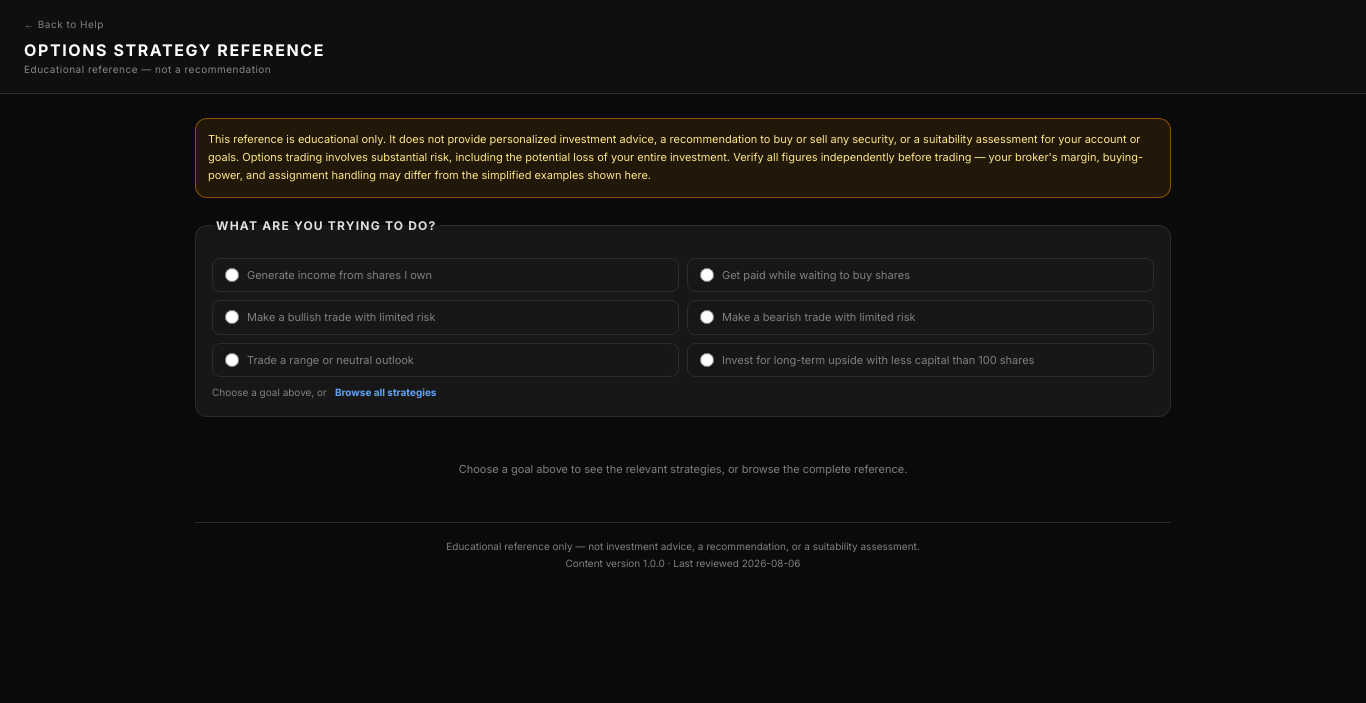
Test: HELP-0001: Options Strategy Reference page › three-strategy maximum and fourth-selection rejection › allows exactly three selections and rejects a fourth, preserving the original three
Click the button "Browse all strategies". click: (386,393)
box: left=335, top=385, right=436, bottom=400
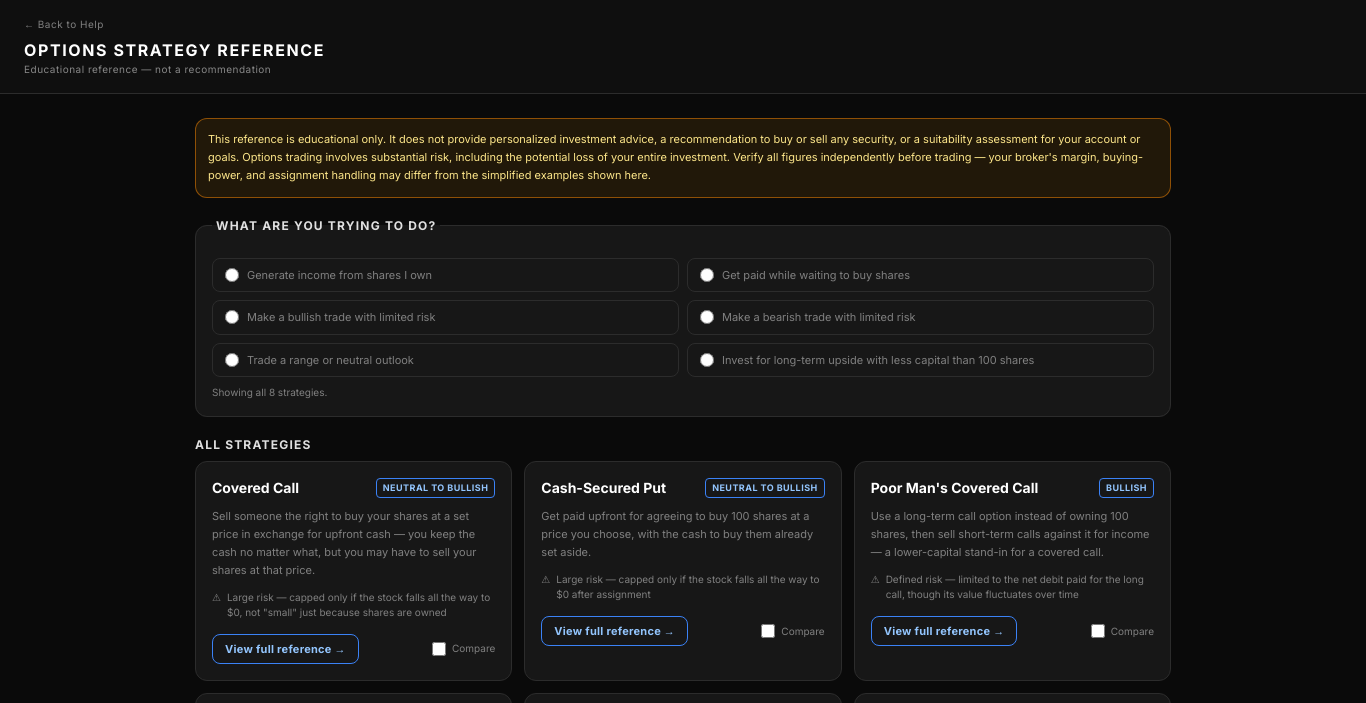
Click the 3rd checkbox labelled "Compare". click: (439,649)
box: left=432, top=642, right=446, bottom=656
(page scrolled)
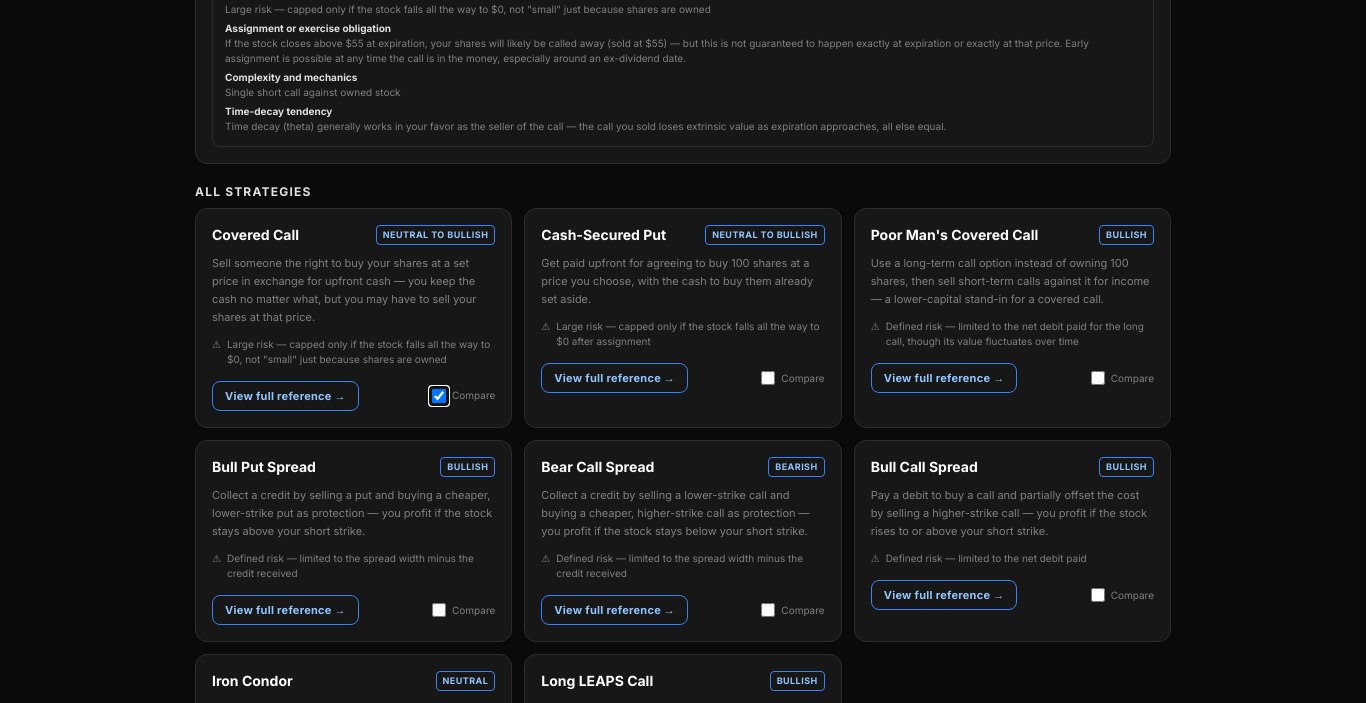
Click the checkbox labelled "Compare" below "Cash-Secured Put". click: (768,378)
box: left=761, top=371, right=775, bottom=385
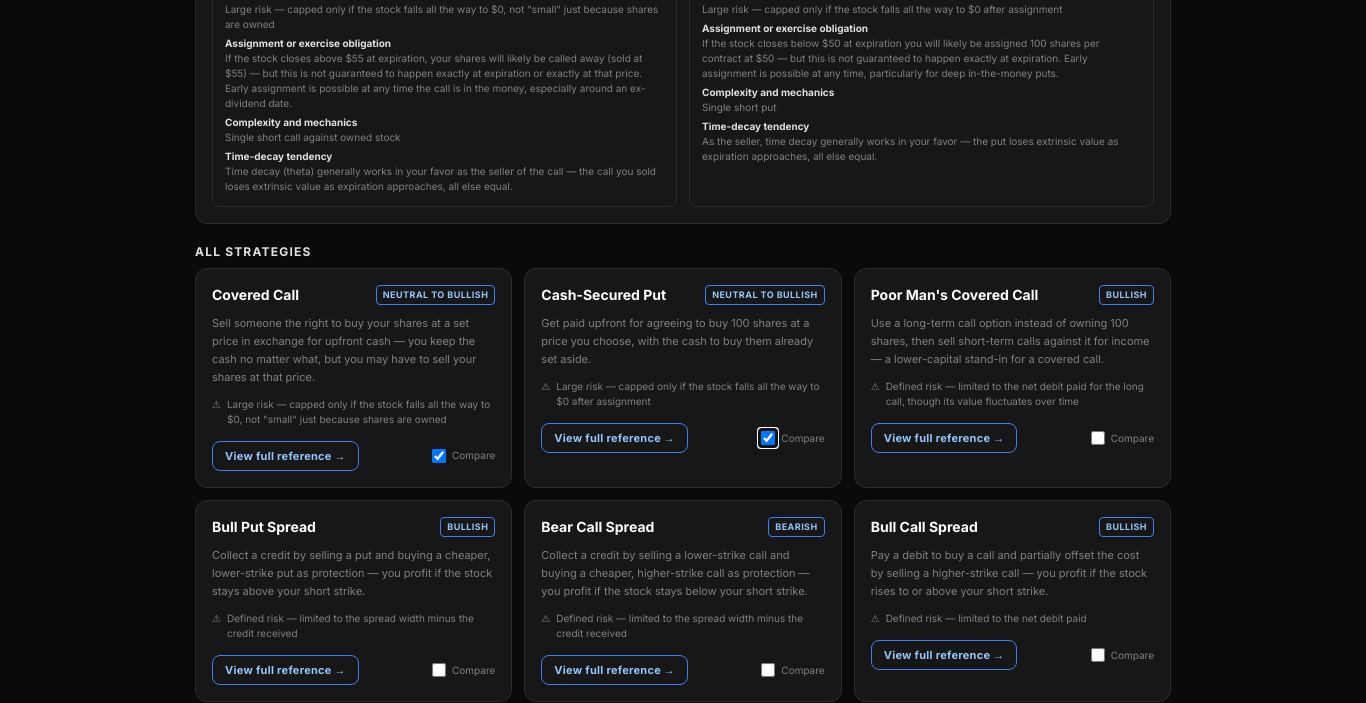
Click the checkbox labelled "Compare" below "Poor Man's Covered Call". click: (1098,438)
box: left=1091, top=431, right=1105, bottom=445
(page scrolled)
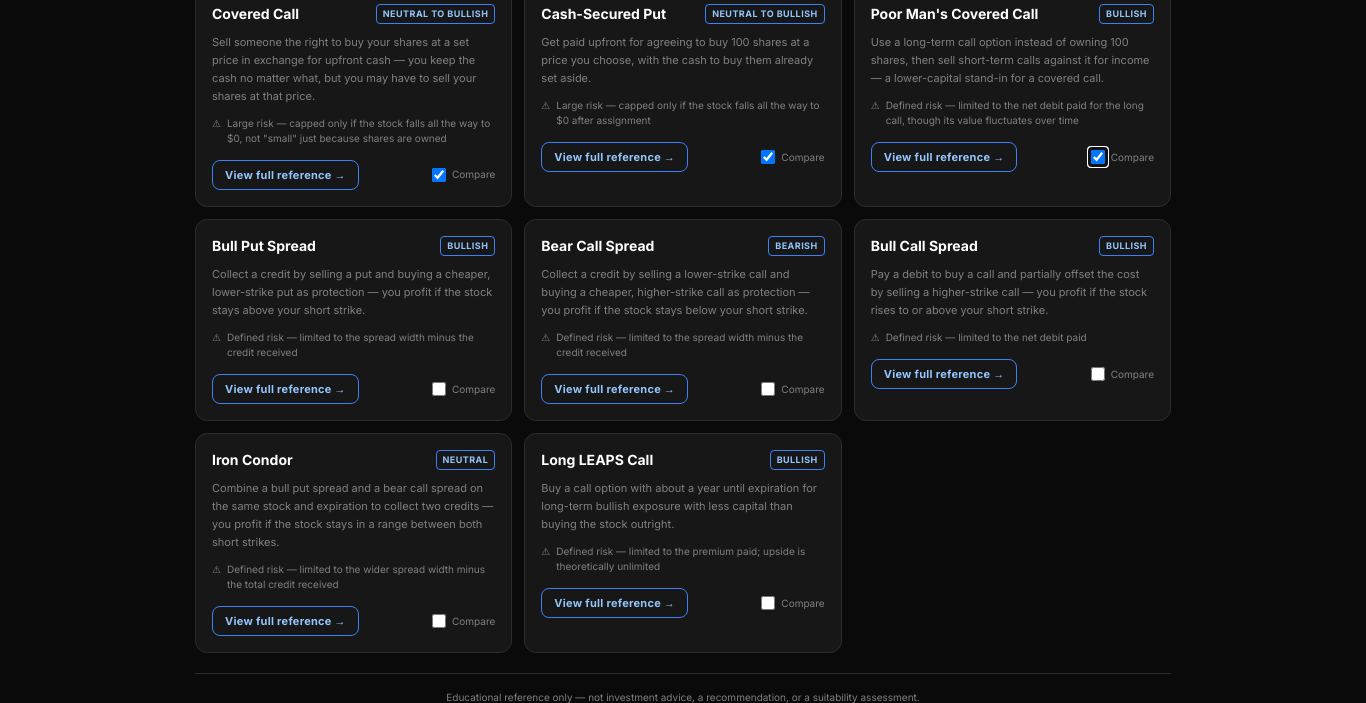
Click the 5th checkbox labelled "Compare". click: (439,389)
box: left=432, top=382, right=446, bottom=396
(page scrolled)
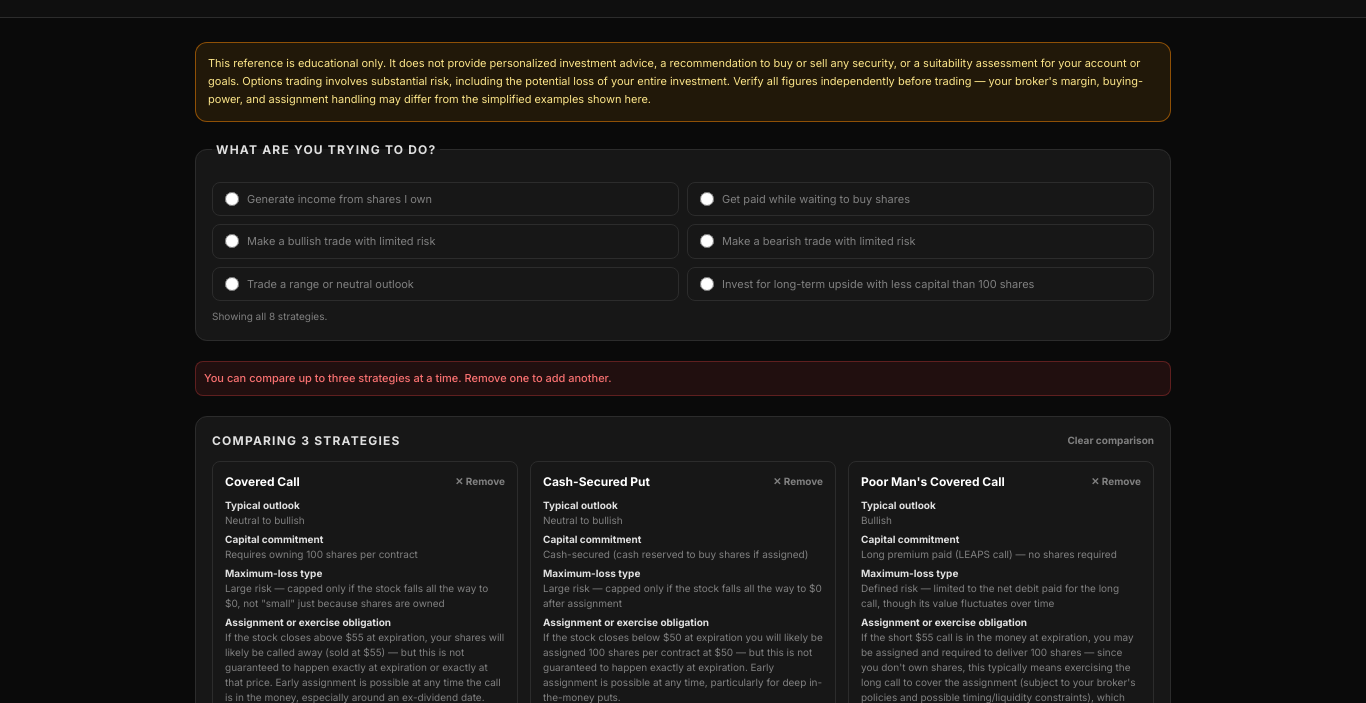
Now the heading "Comparing 3 strategies" is shown, box left=212, top=433, right=401, bottom=449
Now the text "You can compare up to three strategies at a time. Remove one to add another." is shown, box left=195, top=361, right=1171, bottom=396
